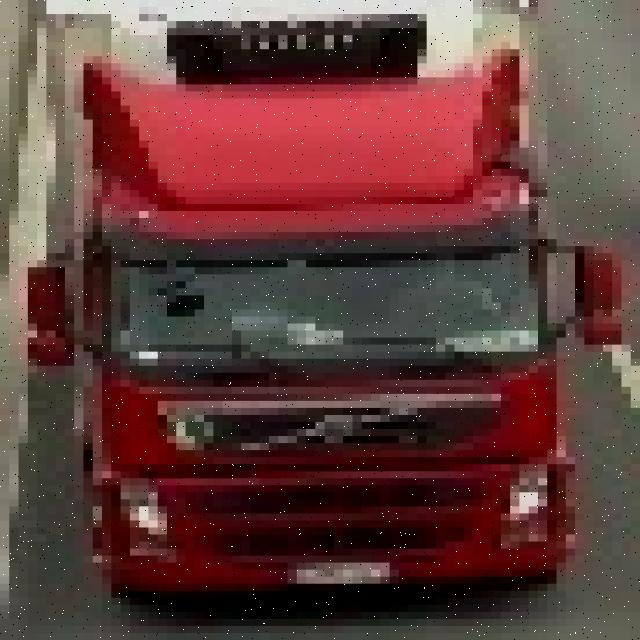truck: (37, 0, 631, 605)
